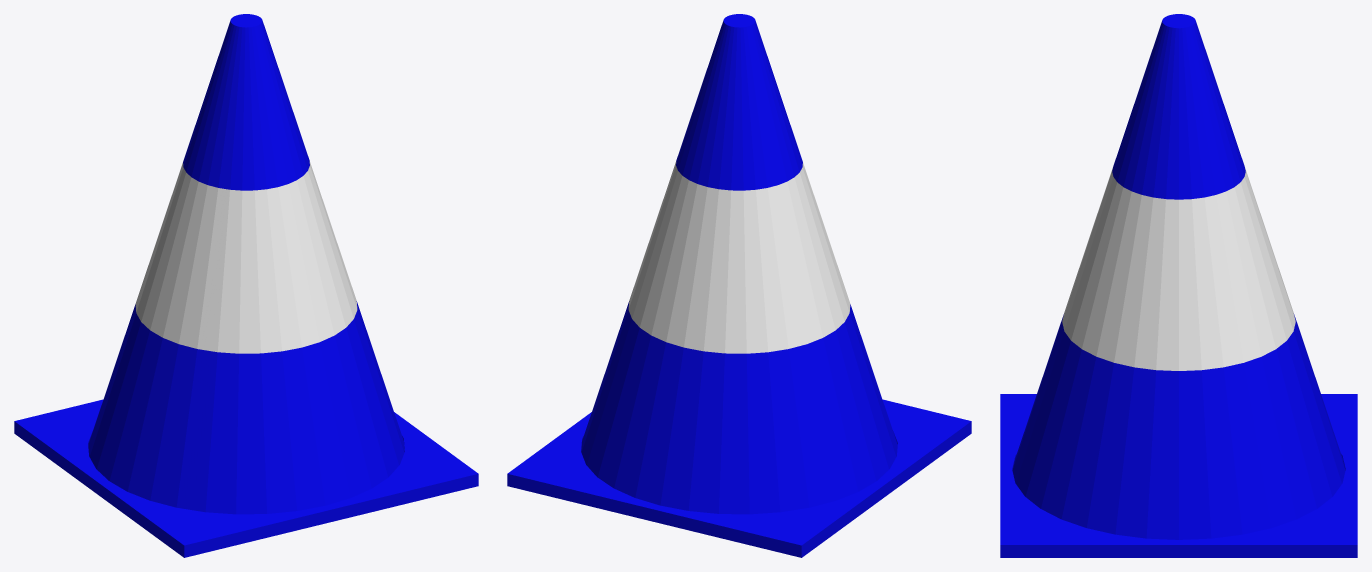
File: small_blue_cone.dae
The picture shows the model from 3 angles, left to right: view 1: azimuth 30°, elevation 25°; view 2: azimuth 150°, elevation 25°; view 3: azimuth 270°, elevation 25°; orthographic projection. The views are drawn at different scales.
Visible parts, largest first — view 1: Cylinder; view 2: Cylinder; view 3: Cylinder.
Part boxes in pixels (x1=…): Cylinder: x1=14, y1=14, x2=478, y2=557; Cylinder: x1=507, y1=14, x2=971, y2=557; Cylinder: x1=1000, y1=14, x2=1357, y2=557.
Size of the model in its own units: 0.228 by 0.228 by 0.325.
